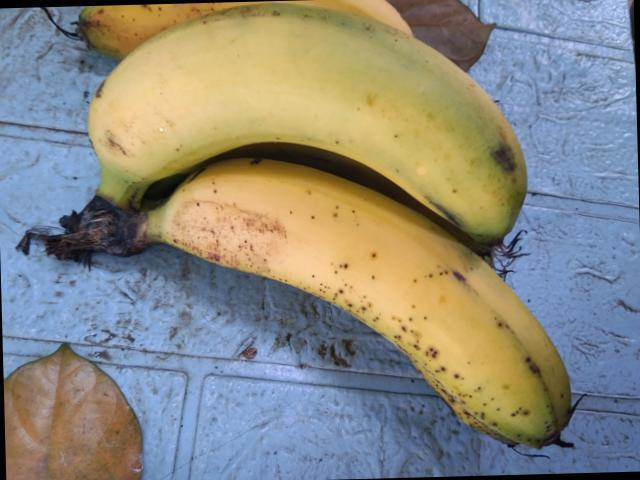freshripe: (76, 0, 513, 239)
ripe: (142, 153, 594, 479)
